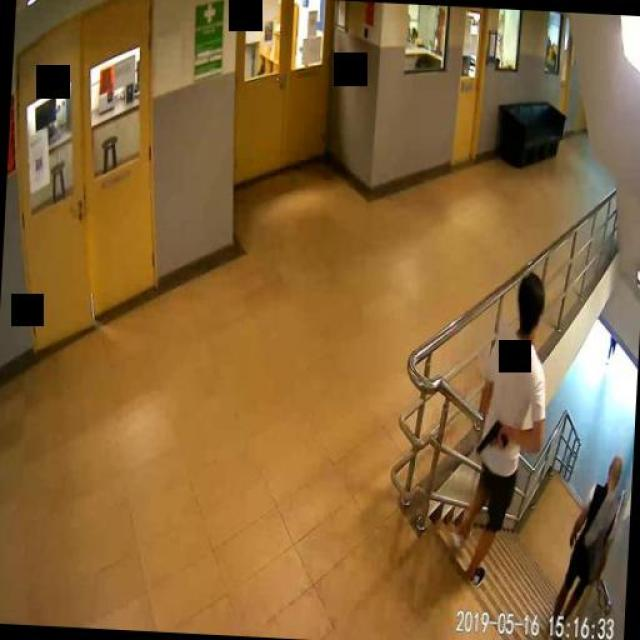gun: (475, 418, 507, 453)
